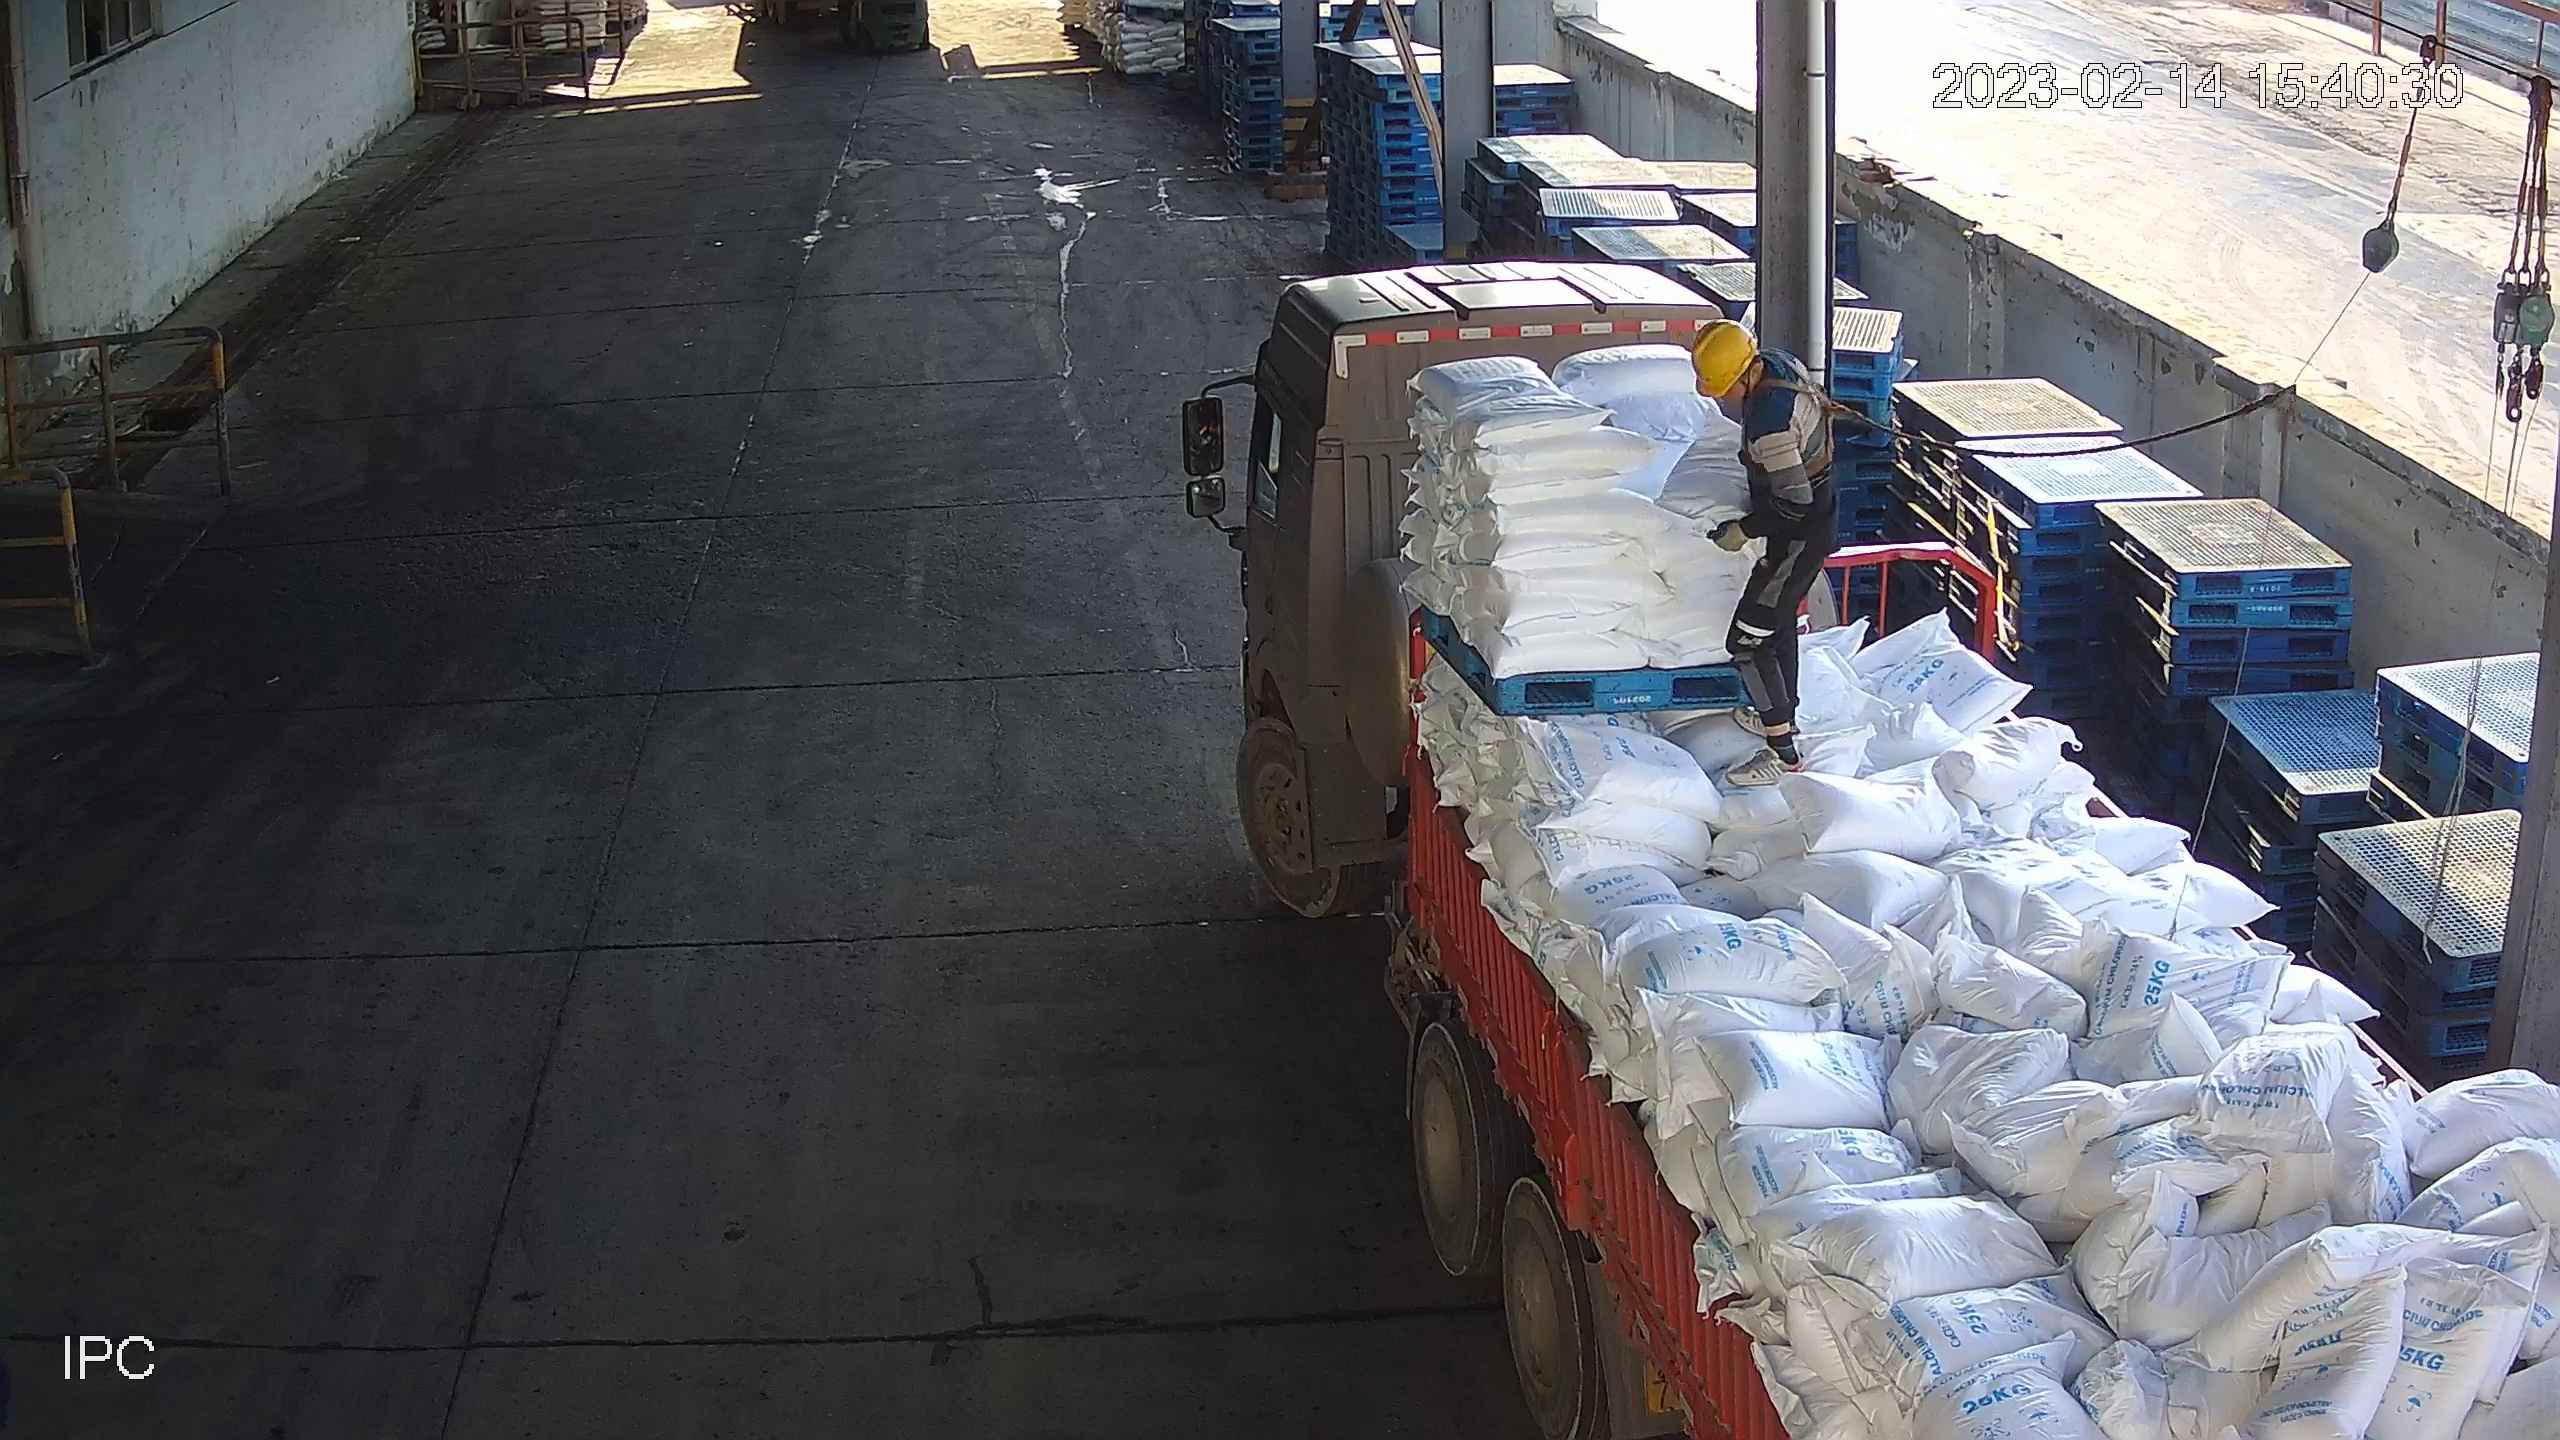belt: (1755, 371, 1863, 481)
head: (1680, 322, 1821, 458)
helmet: (1683, 320, 1760, 395)
people: (1686, 323, 1842, 790)
truck: (1183, 265, 2560, 1440)
